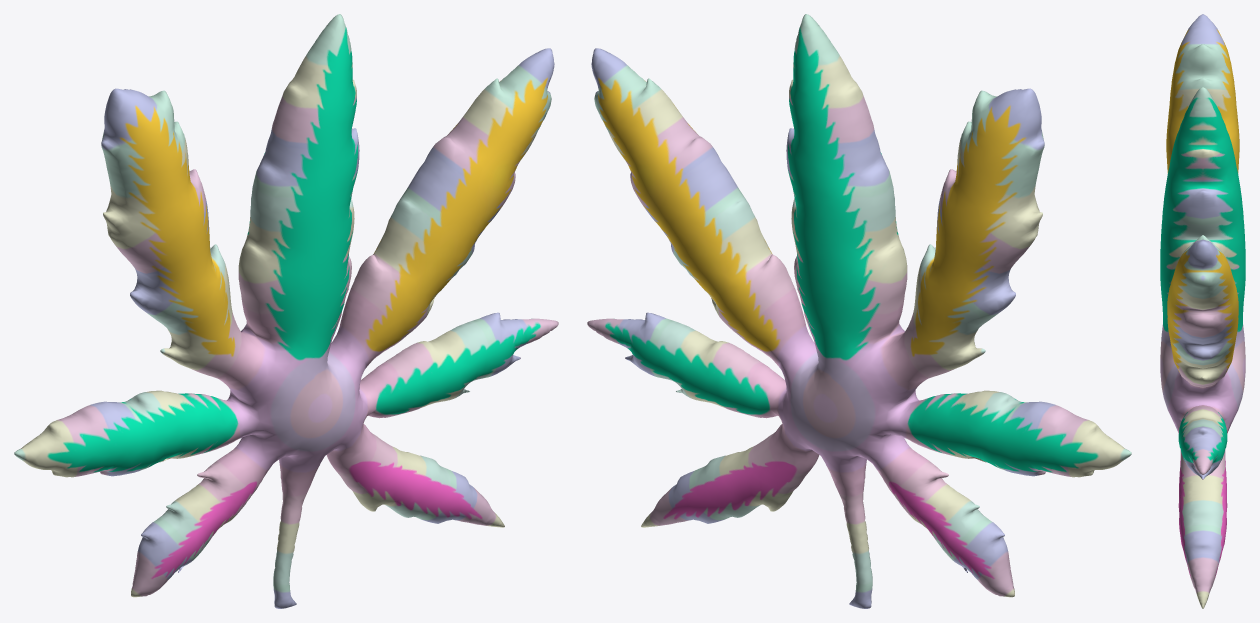
The model's file is Cannabis0.9ac14d04.glb.
3 renders of one model, left to right at view 1: azimuth 30°, elevation 25°; view 2: azimuth 150°, elevation 25°; view 3: azimuth 270°, elevation 25°, orthographic. The views are drawn at different scales.
Size of the model in its own units: 6.81 by 6.94 by 1.12.
1 material, 1 textured.
